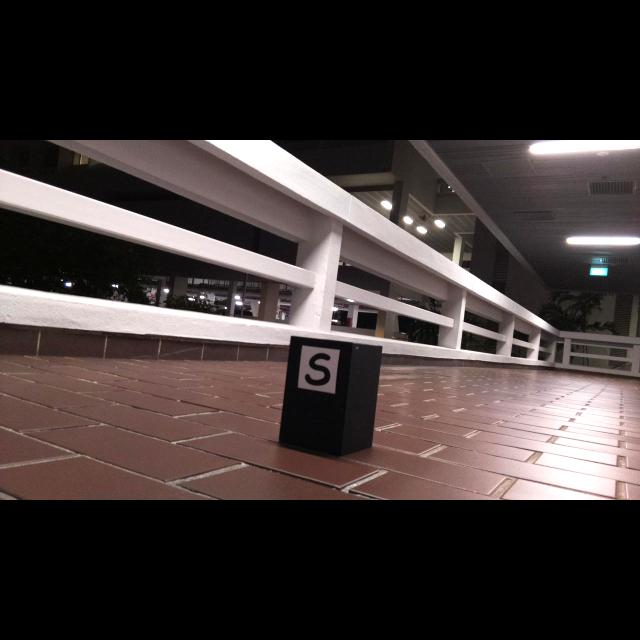S: (305, 353, 331, 386)
